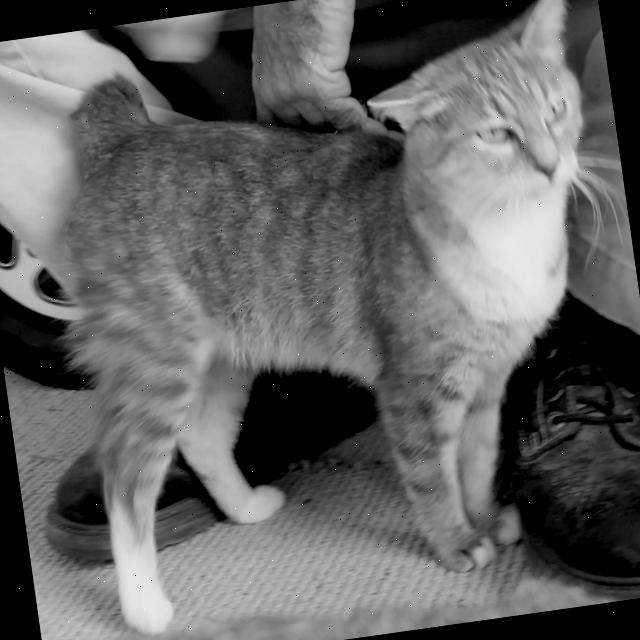manx_cat: (339, 0, 604, 239)
